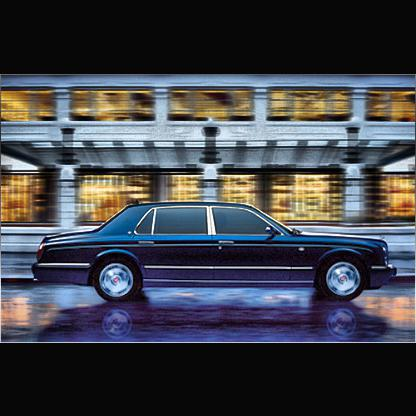Bentley Arnage Sedan 2009: (32, 201, 398, 308)
